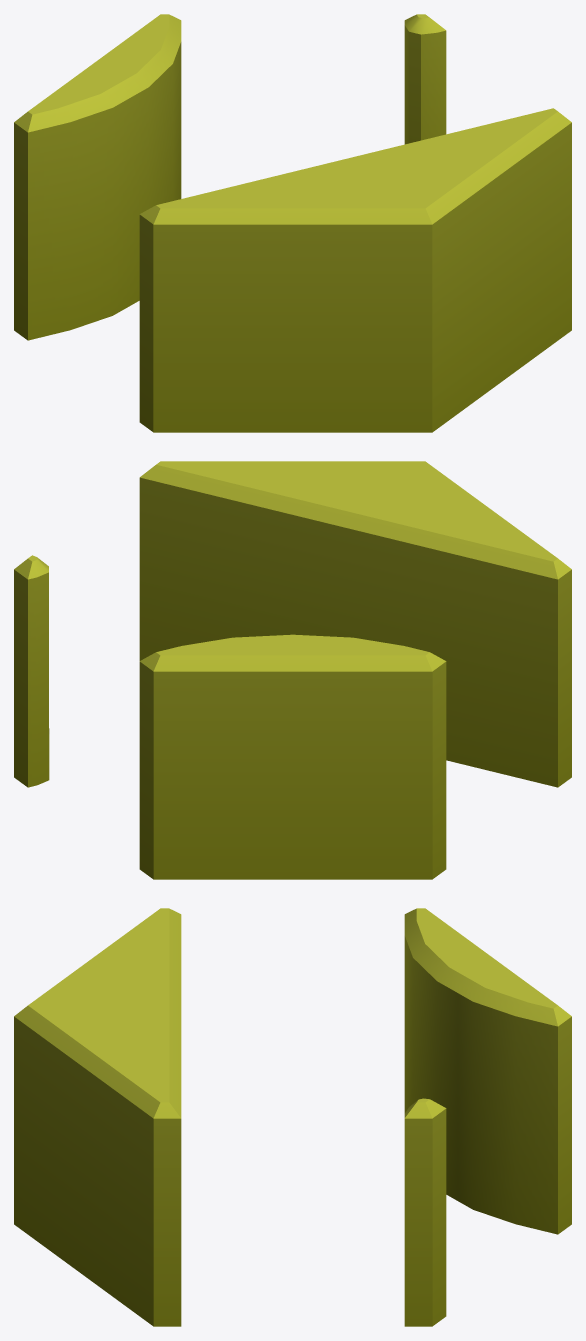
The model's file is hex_river_E_waterless.glb.
The picture shows the model from 3 angles, top to bottom: view 1: azimuth 30°, elevation 25°; view 2: azimuth 150°, elevation 25°; view 3: azimuth 270°, elevation 25°; orthographic projection.
Visible parts, largest first — view 1: hex_river_E_waterless; view 2: hex_river_E_waterless; view 3: hex_river_E_waterless.
Part boxes in pixels (box(x1,y1,x2,y2)): hex_river_E_waterless: box(14, 14, 571, 432); hex_river_E_waterless: box(14, 461, 571, 879); hex_river_E_waterless: box(14, 908, 571, 1326).
Size of the model in its own units: 2 by 1 by 2.31.
1 material, 1 textured.
